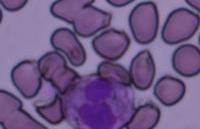E: (60, 73, 134, 128)
